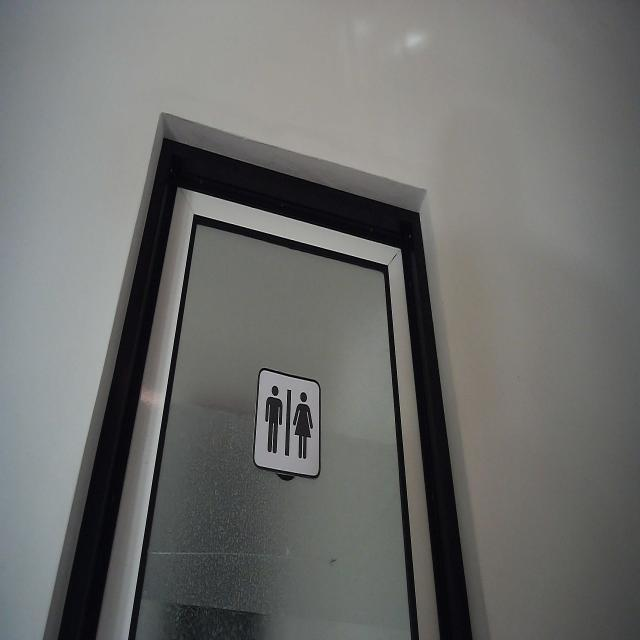restroom: (252, 363, 324, 481)
